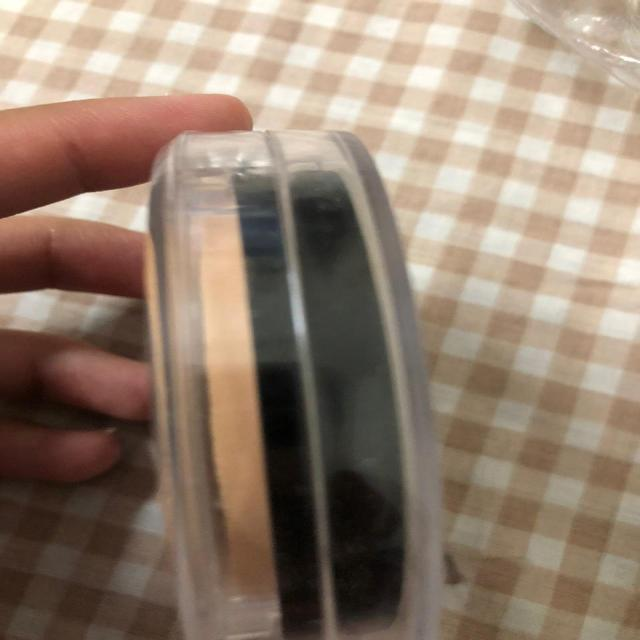powder: (125, 109, 469, 640)
